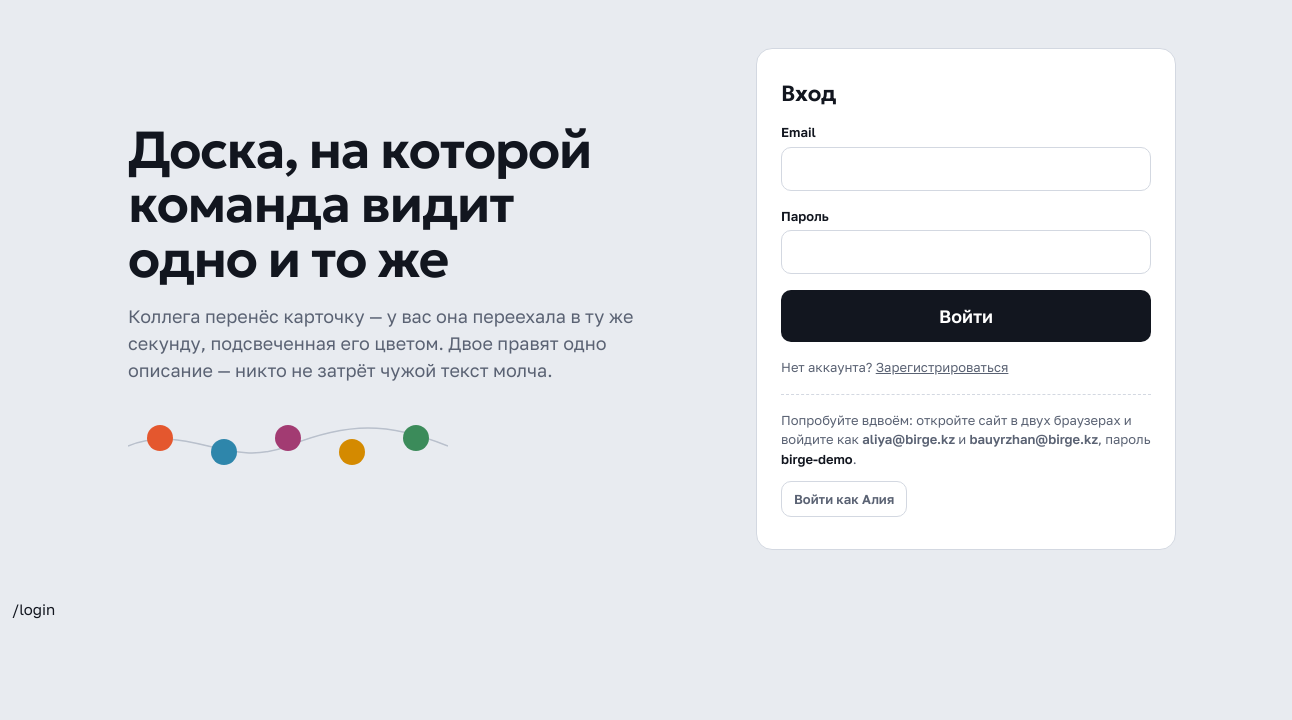
Test: вход › ошибка входа показывается текстом сервера
This screenshot has width=1292, height=720.
Step 1. Type "a@test.kz" into the field labelled "Email" → (966,169), box [781,147,1151,191]
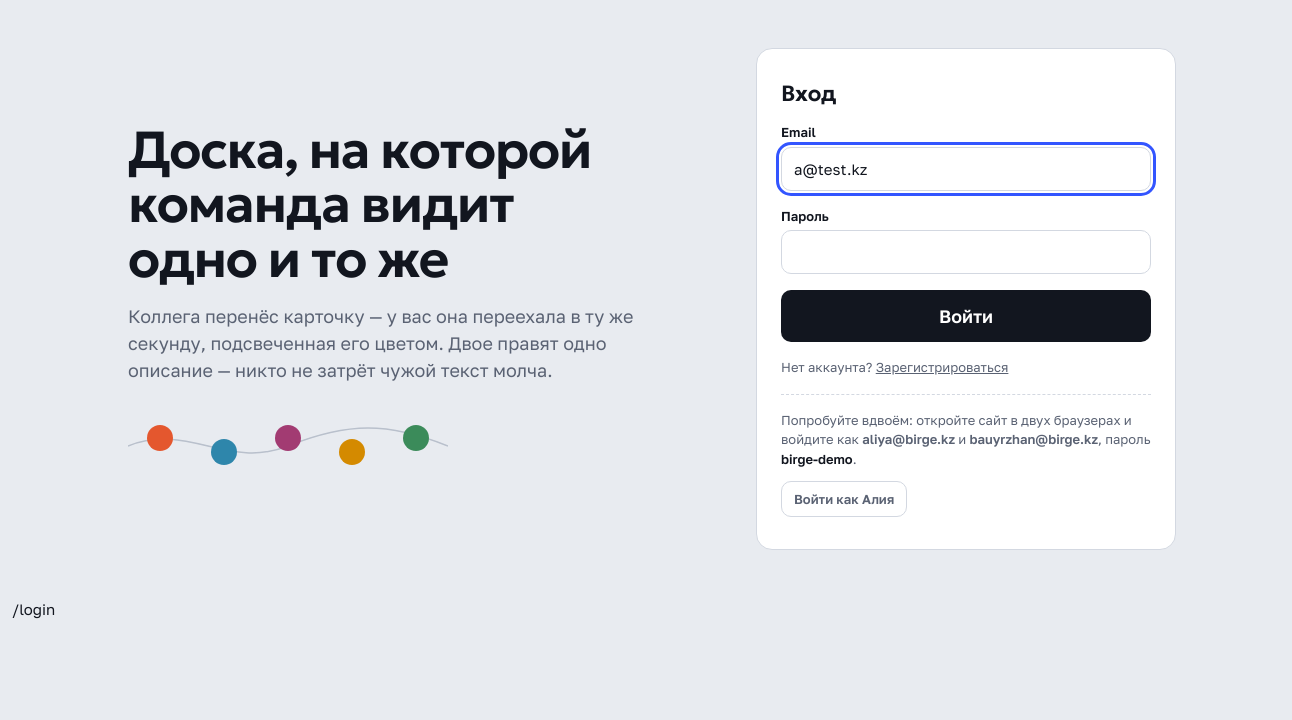
Step 2. Type "wrong-pass" into the password field labelled "Пароль" → (966,252), box [781,230,1151,274]
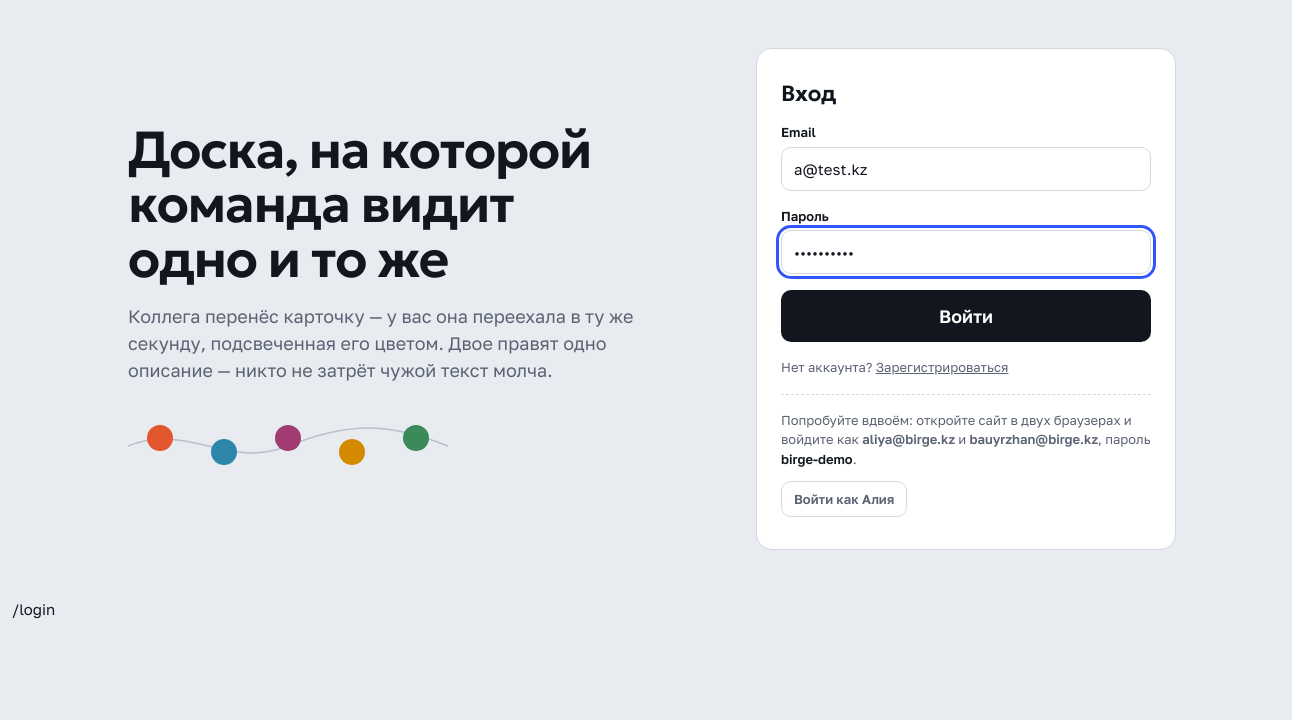
Step 3. Click the button "Войти" → (966,316), box [781,290,1151,342]
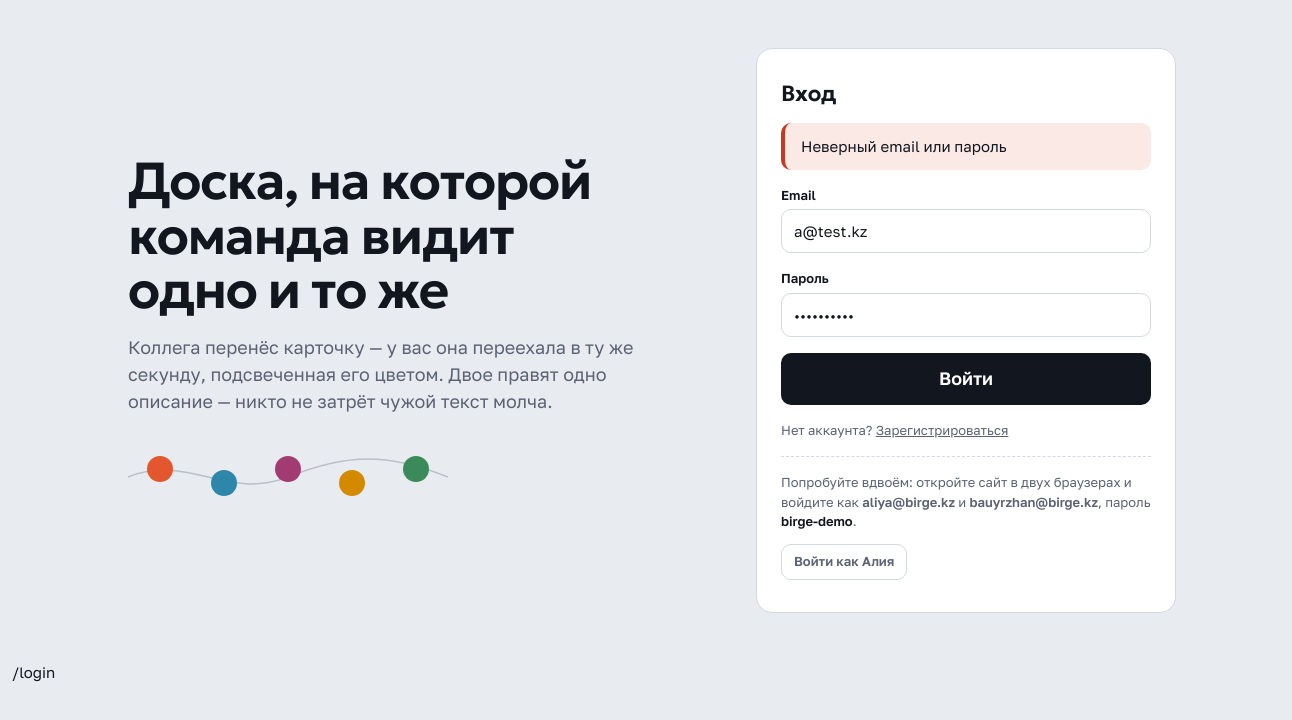
Expected: the text "Неверный email или пароль" is shown, [781,123,1151,170]
